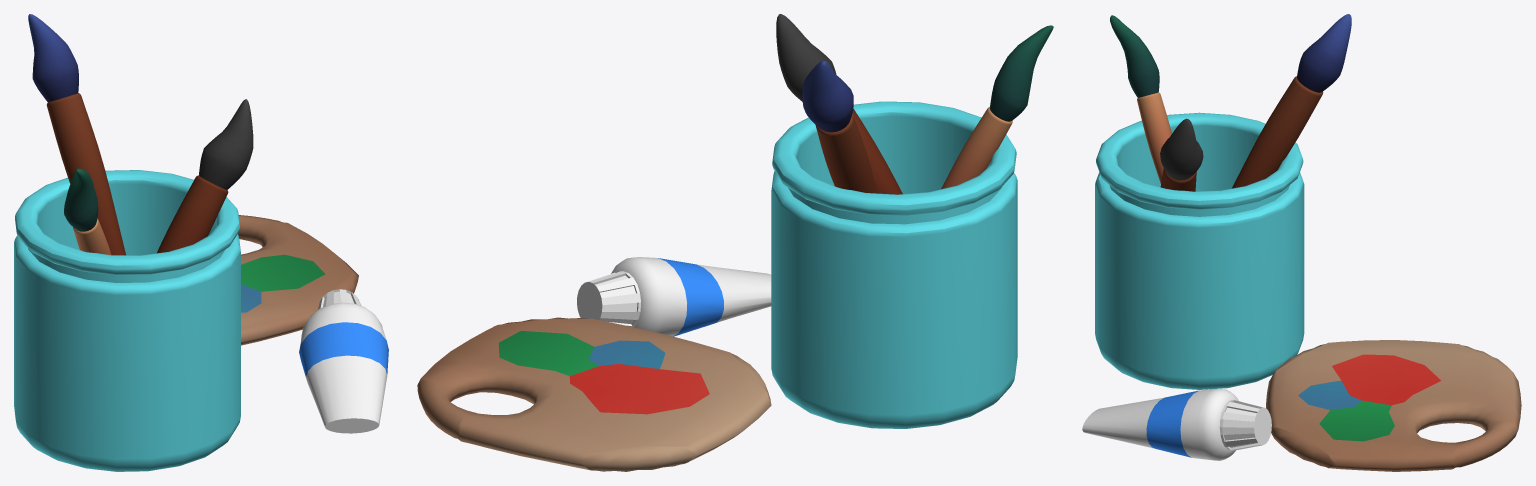
File: paintItems.fbx
3 views of the same model, side by side, from view 1: azimuth 30°, elevation 25°; view 2: azimuth 150°, elevation 25°; view 3: azimuth 270°, elevation 25° (orthographic). The views are drawn at different scales.
Parts seen in each view (by area): view 1: pCylinder49, pCylinder57, pCube131; view 2: pCylinder49, pCube131, pCylinder57; view 3: pCylinder49, pCube131, pCylinder57.
Boxes of the visible parts, x1,y1,x2,y2 form: pCylinder49: (14, 14, 253, 471); pCylinder57: (299, 289, 388, 433); pCube131: (238, 215, 358, 345); pCylinder49: (771, 14, 1053, 428); pCube131: (417, 317, 771, 471); pCylinder57: (577, 257, 771, 336); pCylinder49: (1095, 14, 1351, 389); pCube131: (1266, 340, 1521, 471); pCylinder57: (1082, 389, 1271, 460).
Size of the model in its own units: 14.48 by 12.37 by 14.67.
